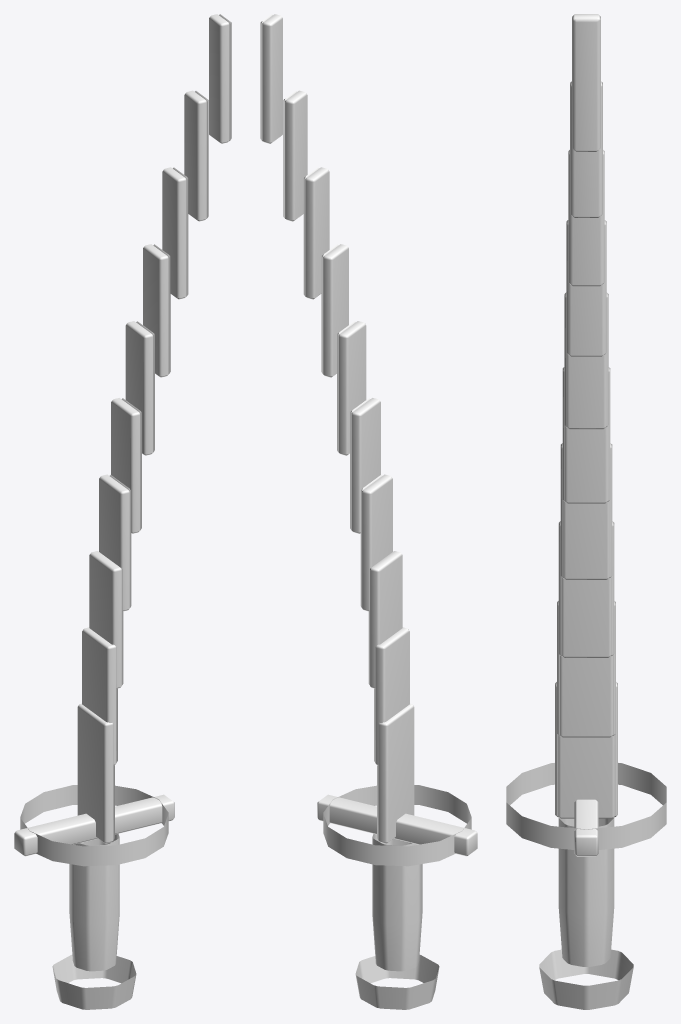
File: talwar.glb
3 renders of one model, left to right at view 1: azimuth 30°, elevation 25°; view 2: azimuth 150°, elevation 25°; view 3: azimuth 270°, elevation 25°, orthographic. The views are drawn at different scales.
Visible parts, largest first — view 1: Talwar; view 2: Talwar; view 3: Talwar.
Part boxes in pixels (x1=…): Talwar: x1=14, y1=14, x2=231, y2=1009; Talwar: x1=260, y1=14, x2=477, y2=1009; Talwar: x1=506, y1=14, x2=666, y2=1009.
Size of the model in its own units: 0.2745 by 1.19 by 0.1657.
Materials: 1 (1 with a texture image).
